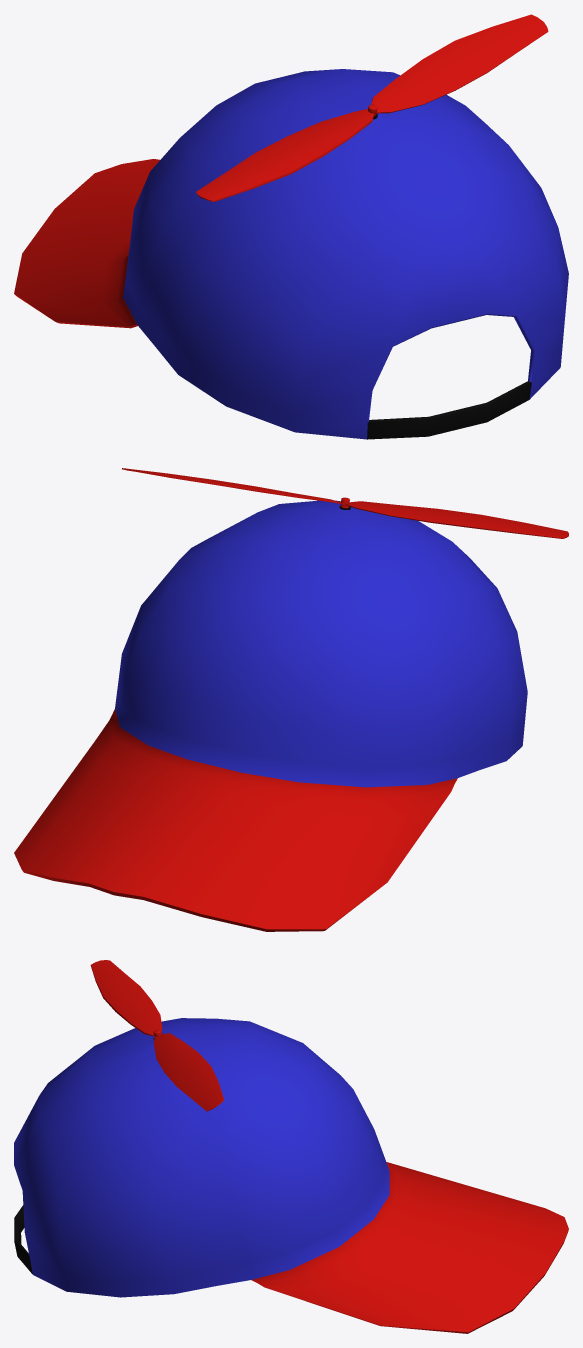
File: baseballcap_propeller.obj
The picture shows the model from 3 angles, top to bottom: view 1: azimuth 30°, elevation 25°; view 2: azimuth 150°, elevation 25°; view 3: azimuth 270°, elevation 25°; orthographic projection. The views are drawn at different scales.
Visible parts, largest first — view 1: 1, 2, 0, 3; view 2: 1, 2, 0; view 3: 1, 2, 0, 3.
Boxes of the visible parts, <box> form: 1: <box>123,69,568,439</box>; 2: <box>14,159,159,328</box>; 0: <box>196,14,548,201</box>; 3: <box>367,114,531,439</box>; 1: <box>115,500,527,787</box>; 2: <box>14,709,457,931</box>; 0: <box>122,468,568,538</box>; 1: <box>14,1018,389,1297</box>; 2: <box>251,1162,568,1333</box>; 0: <box>90,960,224,1111</box>; 3: <box>14,1037,154,1274</box>.
Size of the model in its own units: 0.4295 by 0.3002 by 0.6082.
